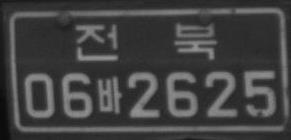0: (23, 72, 56, 119)
2: (205, 69, 238, 118), (127, 70, 160, 118)
5: (242, 69, 278, 117)
6: (61, 71, 94, 118), (166, 70, 198, 118)
바: (96, 76, 123, 115)
전북_D: (74, 21, 217, 61)
